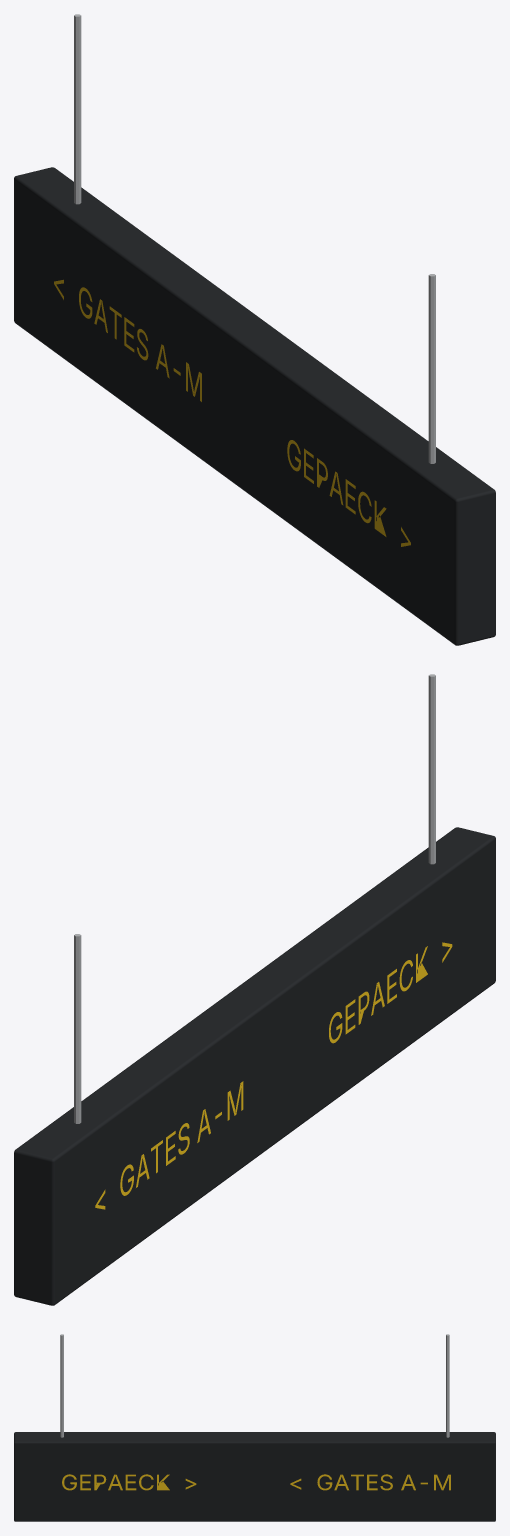
Rendered from sign_36_a.glb.
3 views of the same model, one above another, from view 1: azimuth 30°, elevation 25°; view 2: azimuth 150°, elevation 25°; view 3: azimuth 270°, elevation 25° (orthographic). The views are drawn at different scales.
Visible parts, largest first — view 1: kasten, pendel1, pendel-1, z-10.72, z-1-0.78; view 2: kasten, pendel-1, pendel1, z-1-0.78, z-10.72; view 3: kasten, z1-0.78, z10.72, pendel-1, pendel1.
Part boxes in pixels (x1,y1,x2,y2): kasten: (14, 167, 495, 645); pendel1: (74, 14, 81, 204); pendel-1: (428, 274, 435, 463); z-10.72: (54, 279, 201, 401); z-1-0.78: (287, 440, 410, 546); kasten: (14, 827, 495, 1305); pendel-1: (428, 674, 435, 864); pendel1: (74, 934, 81, 1123); z-1-0.78: (329, 942, 452, 1043); z-10.72: (95, 1081, 243, 1209); kasten: (14, 1432, 495, 1521); z1-0.78: (62, 1474, 196, 1490); z10.72: (290, 1474, 450, 1490); pendel-1: (60, 1334, 63, 1437); pendel1: (446, 1334, 449, 1437).
Size of the model in its own units: 0.162 by 1.25 by 3.
